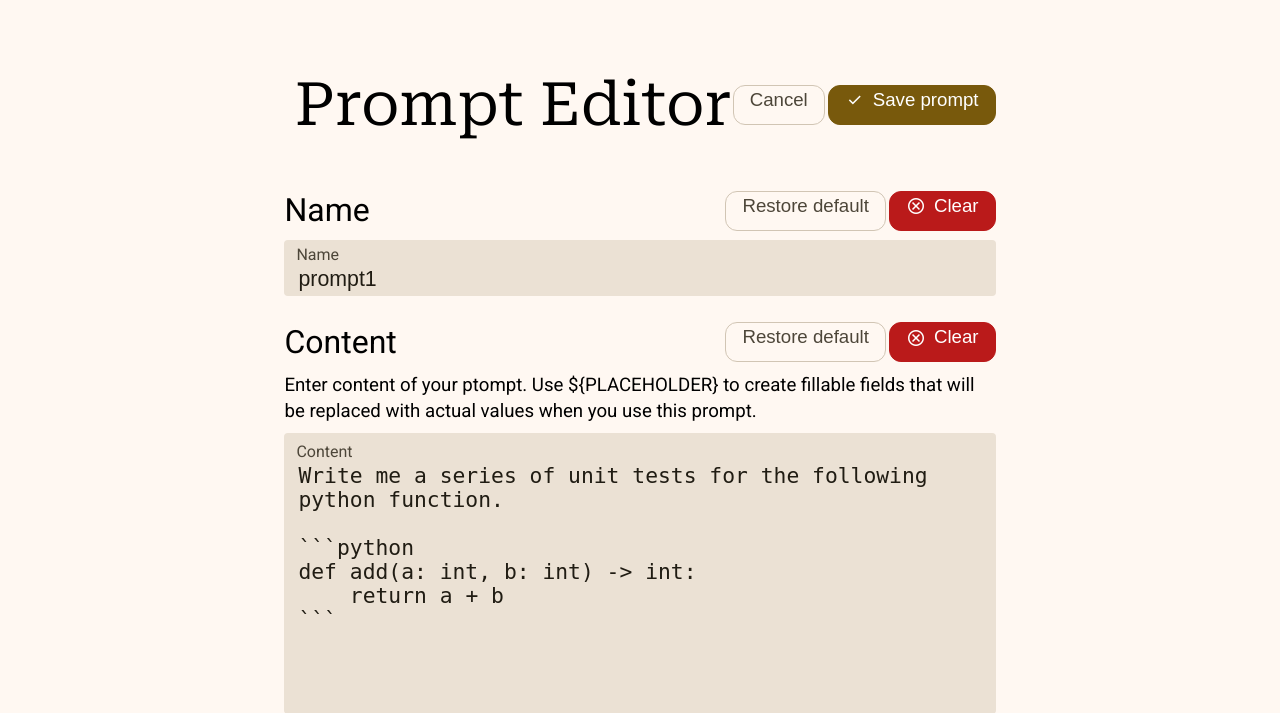
it: canceling changes › existing prompt should not be renamed nor overriden when user clicks cancel and confirms it in dialog in existing prompt mode
The image size is (1280, 713).
Type "Name" into the field. click: {"x": 640, "y": 279}
box: [296, 266, 984, 292]
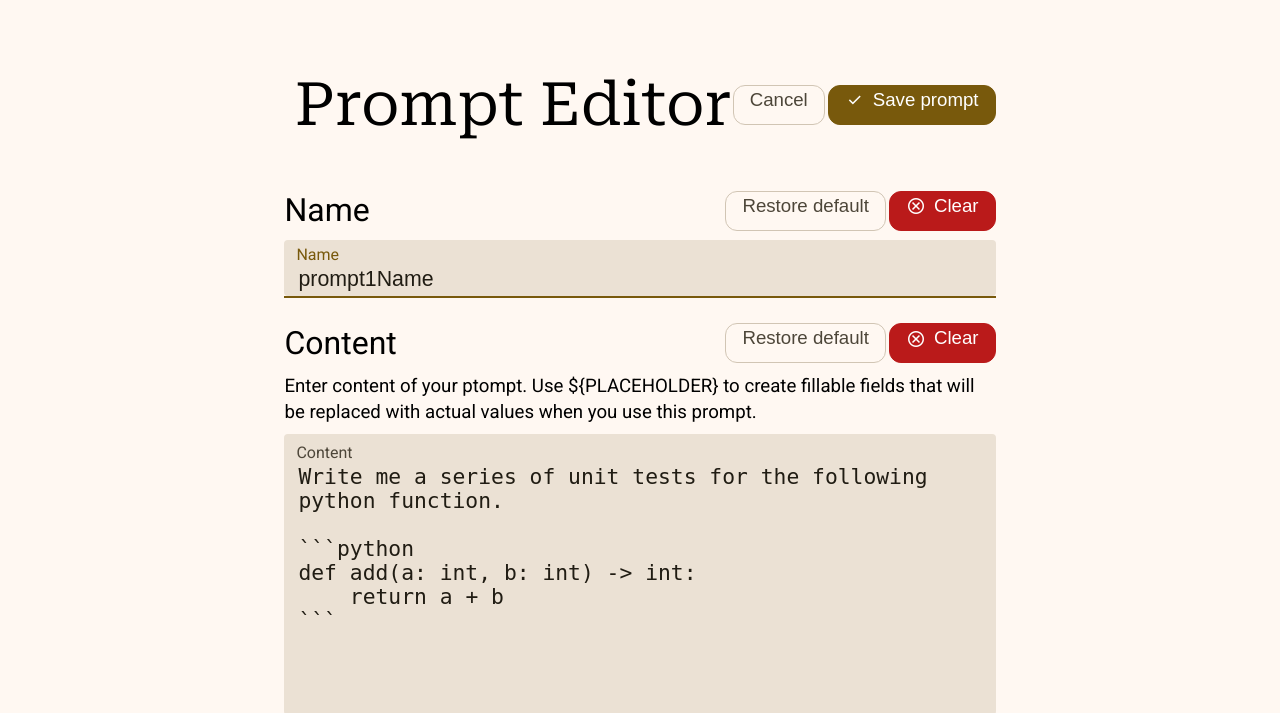
Type "Content" into the text box. click: {"x": 640, "y": 585}
box: [296, 463, 984, 707]
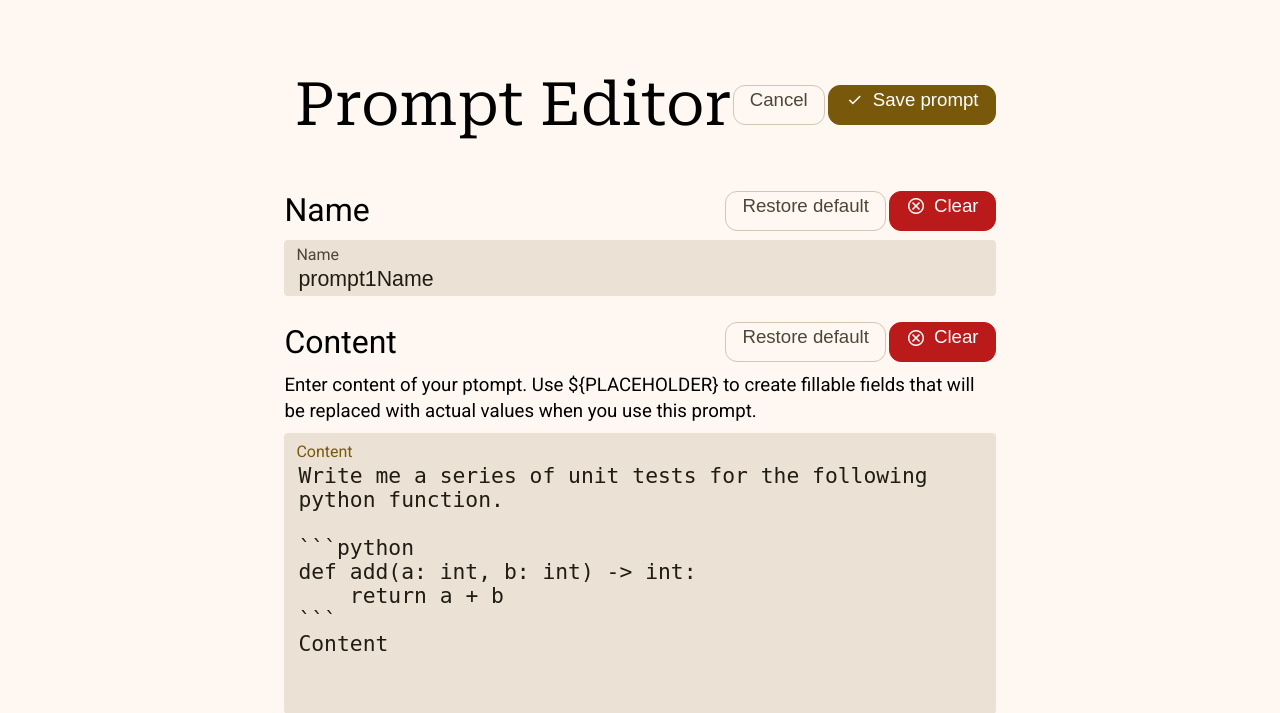
Click the button "Cancel". click: {"x": 779, "y": 105}
box: [733, 85, 825, 125]
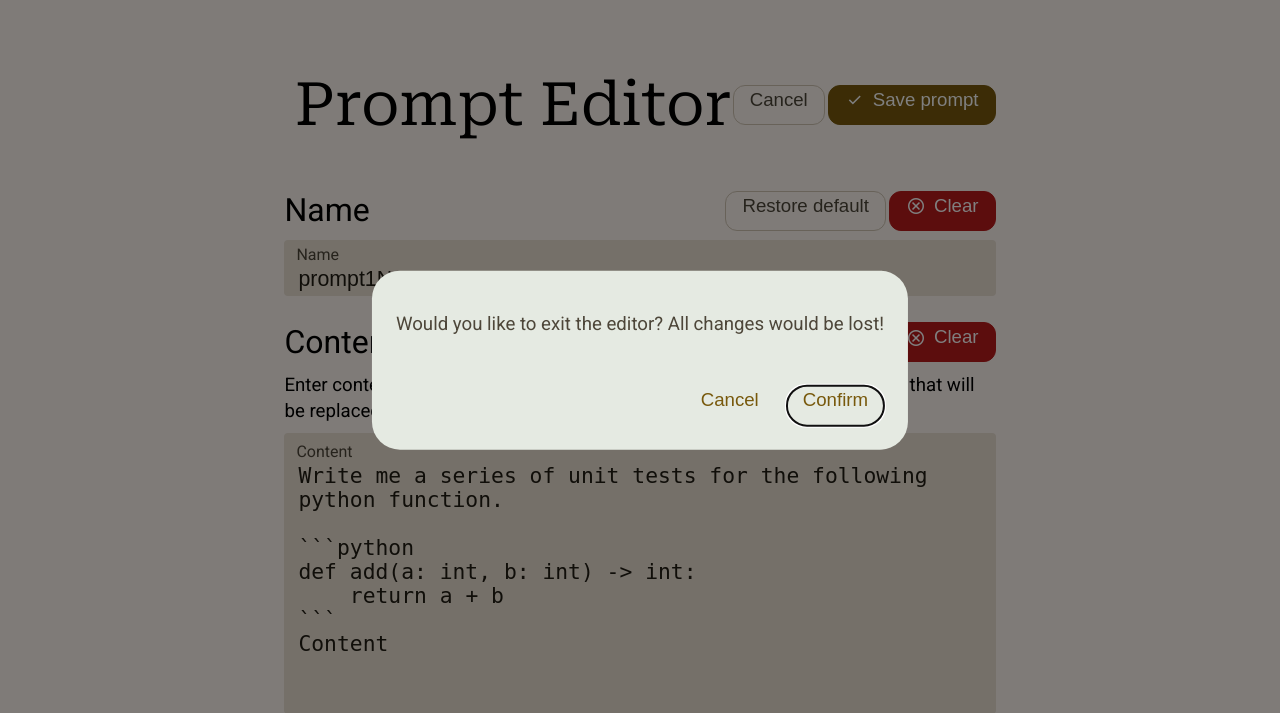
Click the button "Confirm". click: {"x": 835, "y": 405}
box: [787, 385, 884, 425]
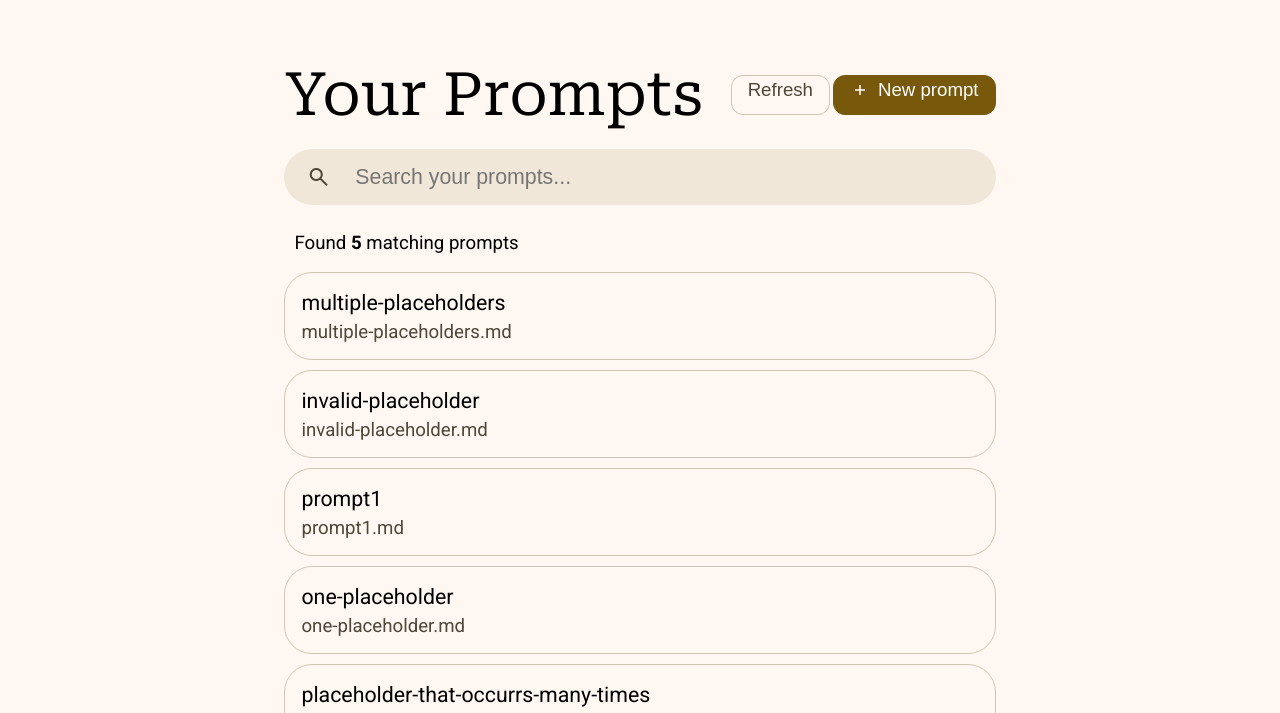
Expected: the text "prompt1.md" is shown, [301, 515, 404, 541]
